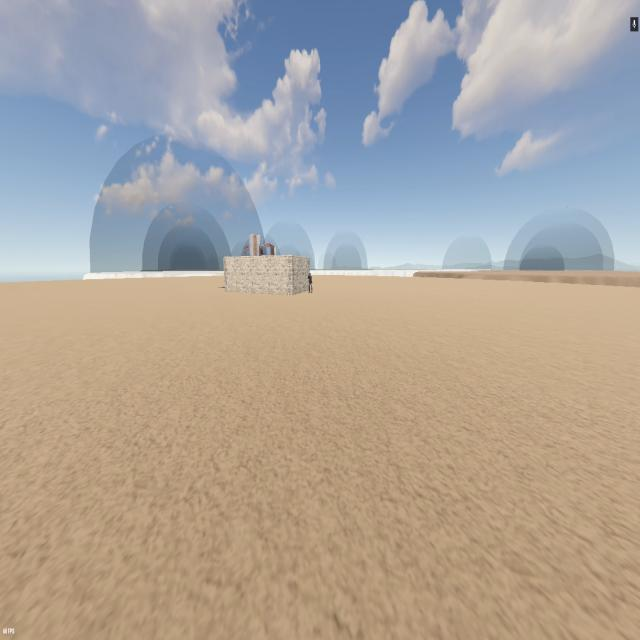Player: (307, 272, 313, 294)
